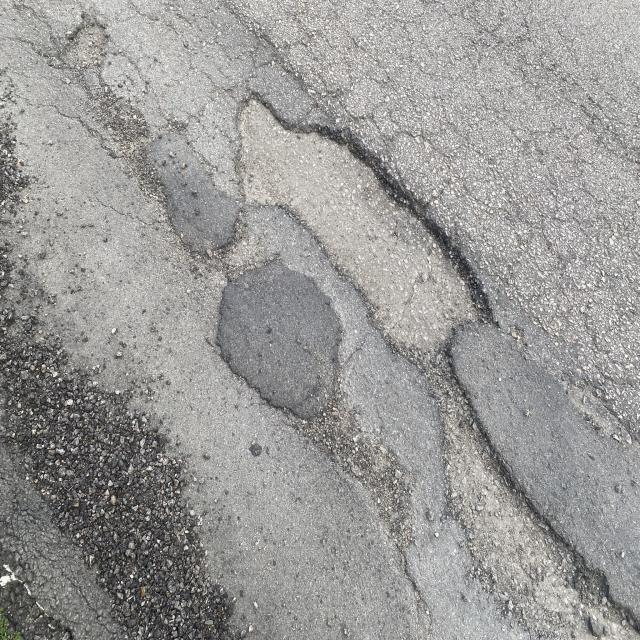pothole: (205, 64, 516, 429)
